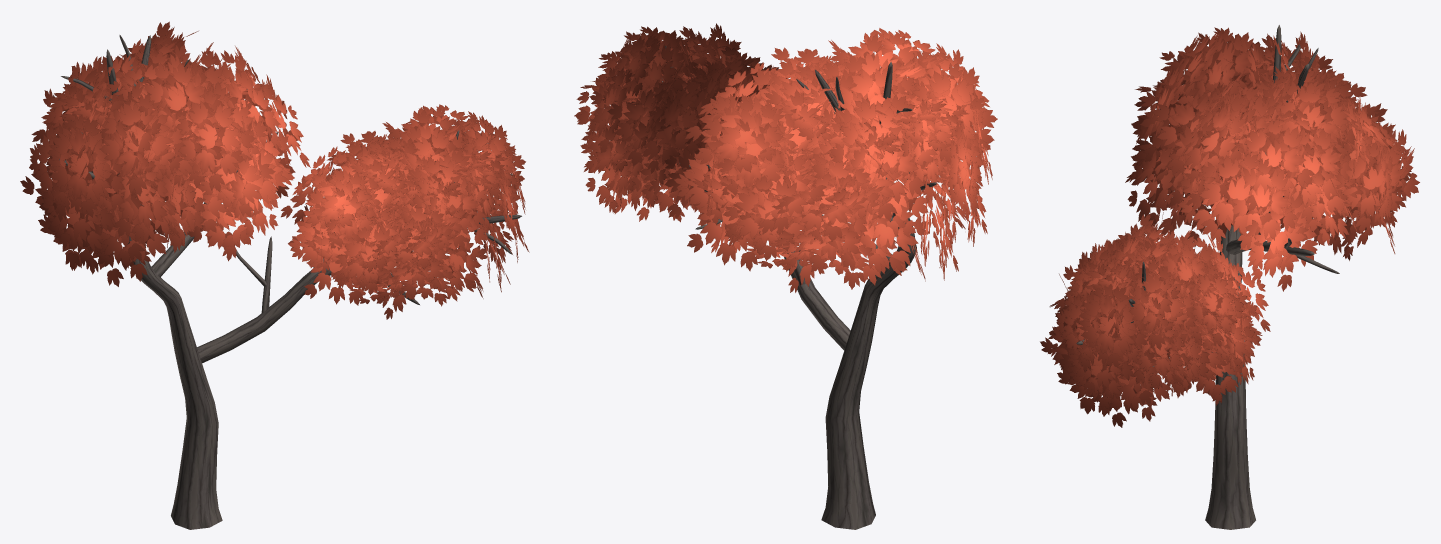
File: texturedMaple.glb
3 views of the same model, side by side, from view 1: azimuth 30°, elevation 25°; view 2: azimuth 150°, elevation 25°; view 3: azimuth 270°, elevation 25° (orthographic). The views are drawn at different scales.
Parts seen in each view (by area): view 1: MapleTree_1; view 2: MapleTree_1; view 3: MapleTree_1.
Part boxes in pixels (bbox=[...]): MapleTree_1: bbox=[20, 21, 529, 529]; MapleTree_1: bbox=[574, 23, 997, 529]; MapleTree_1: bbox=[1040, 25, 1419, 529].
Bounding box in the file's own units: 623 × 664 × 490.
2 materials, 2 textured.
